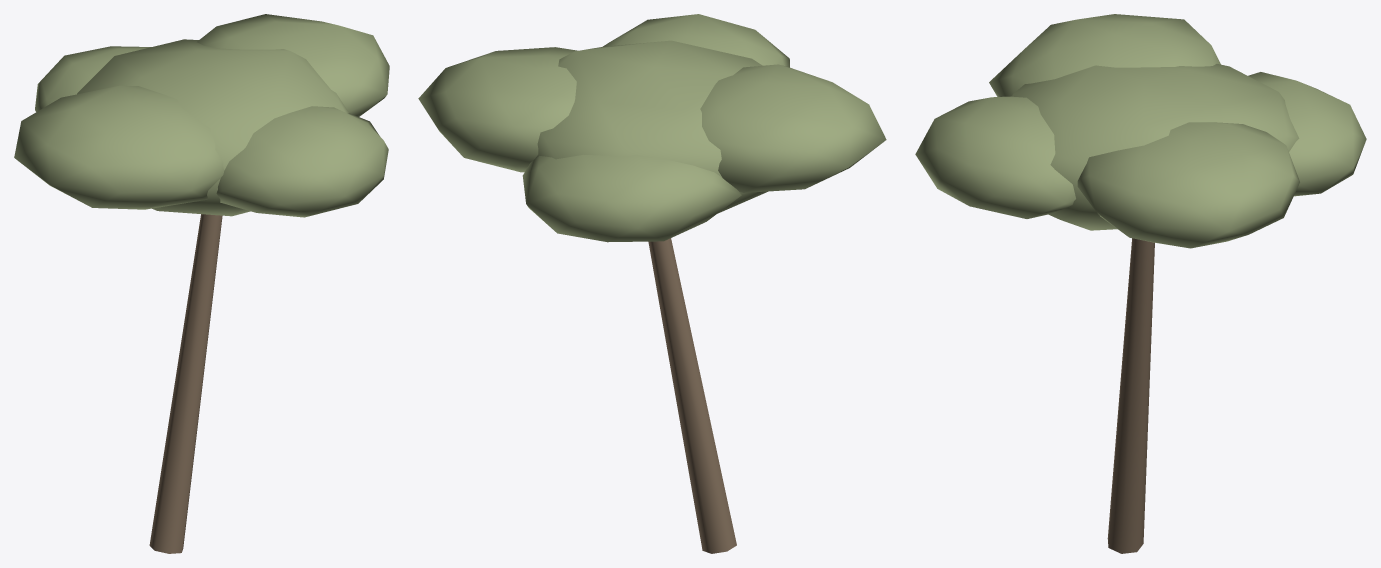
The model's file is tree_umbrella.glb.
The picture shows the model from 3 angles, left to right: view 1: azimuth 30°, elevation 25°; view 2: azimuth 150°, elevation 25°; view 3: azimuth 270°, elevation 25°; orthographic projection. The views are drawn at different scales.
Visible parts, largest first — view 1: tree_umbrella; view 2: tree_umbrella; view 3: tree_umbrella.
Boxes of the visible parts, x1=… form: tree_umbrella: x1=14, y1=14, x2=389, y2=553; tree_umbrella: x1=418, y1=14, x2=886, y2=553; tree_umbrella: x1=915, y1=14, x2=1366, y2=553.
Size of what is drawn, in the model's own units: 8.1 by 9.31 by 7.72.
